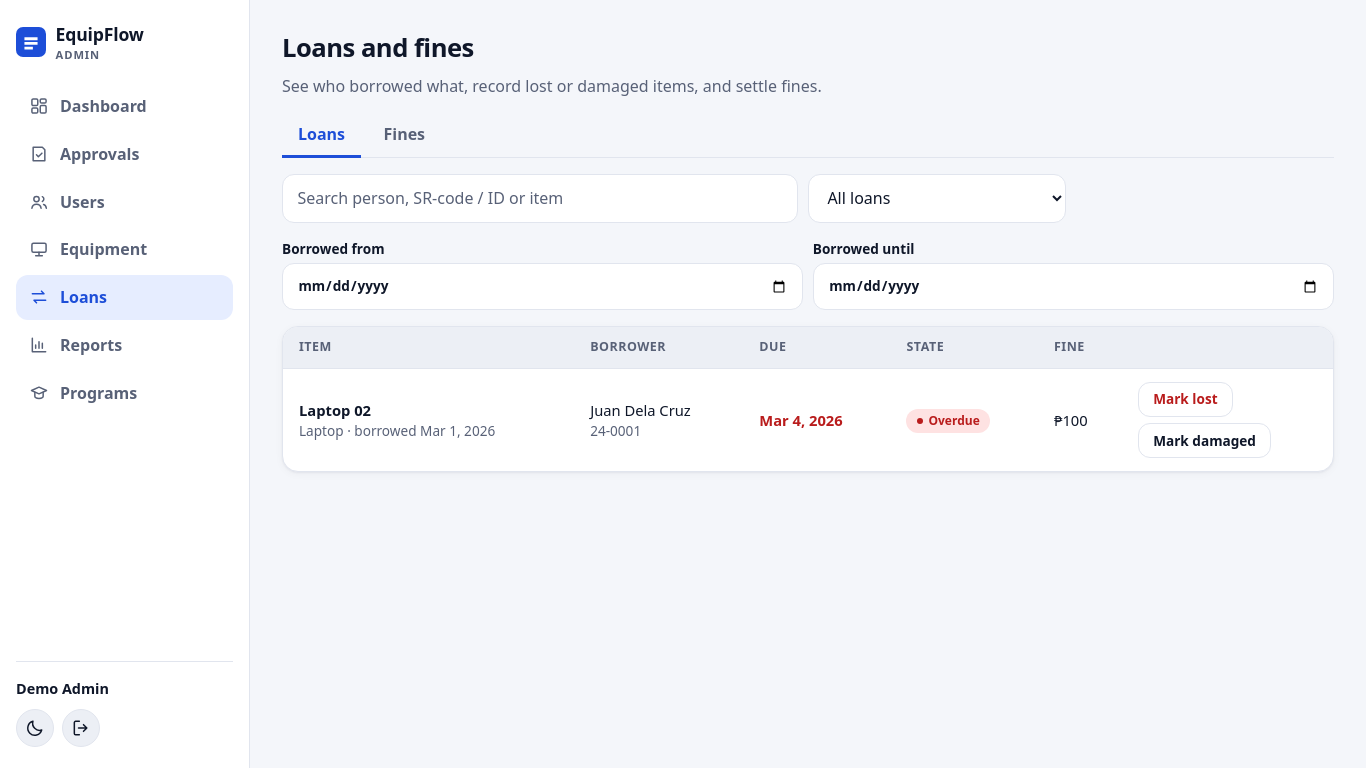
Test case: Loans › shows the server's reason when marking lost fails
The width and height of the screenshot is (1366, 768).
Click the button "Mark lost": (1185, 399) [1138,382,1233,417]
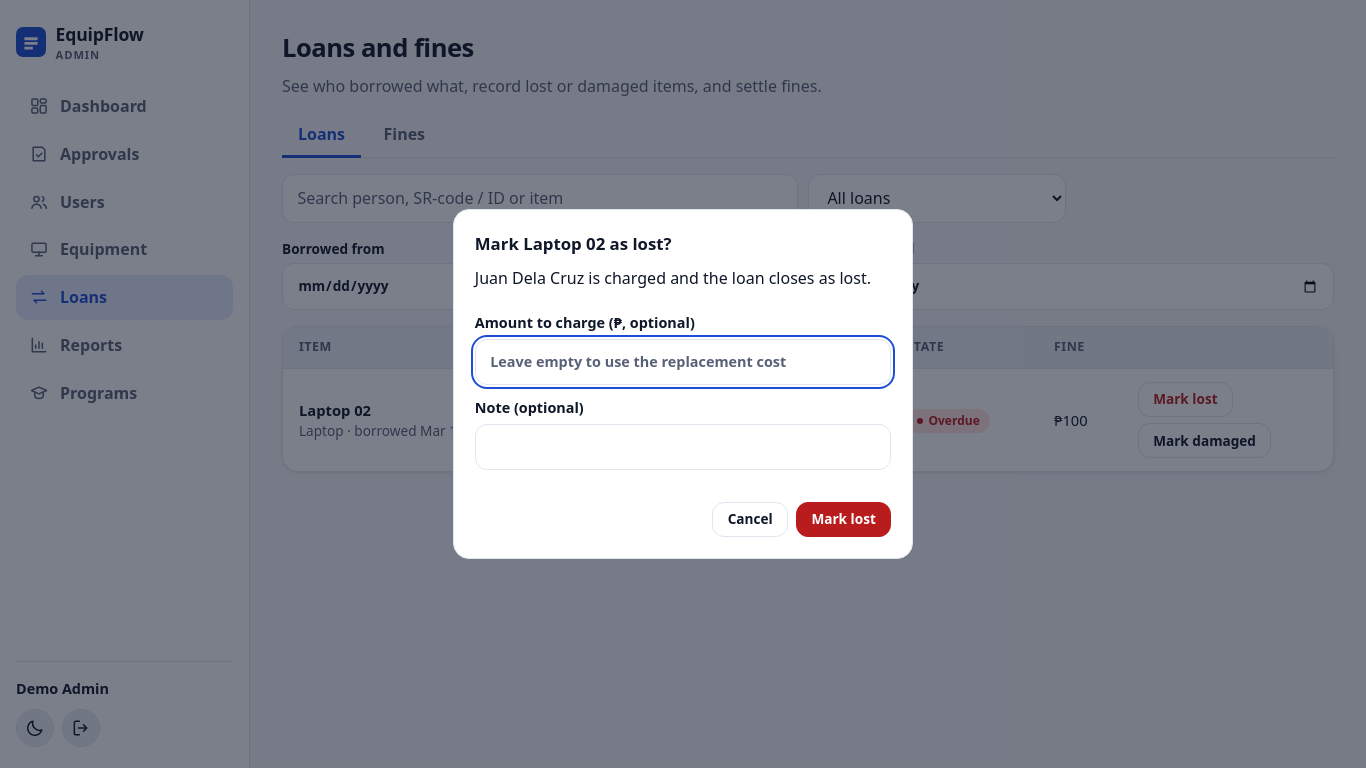
Click the button "Mark lost": (844, 519) [796,502,891,537]
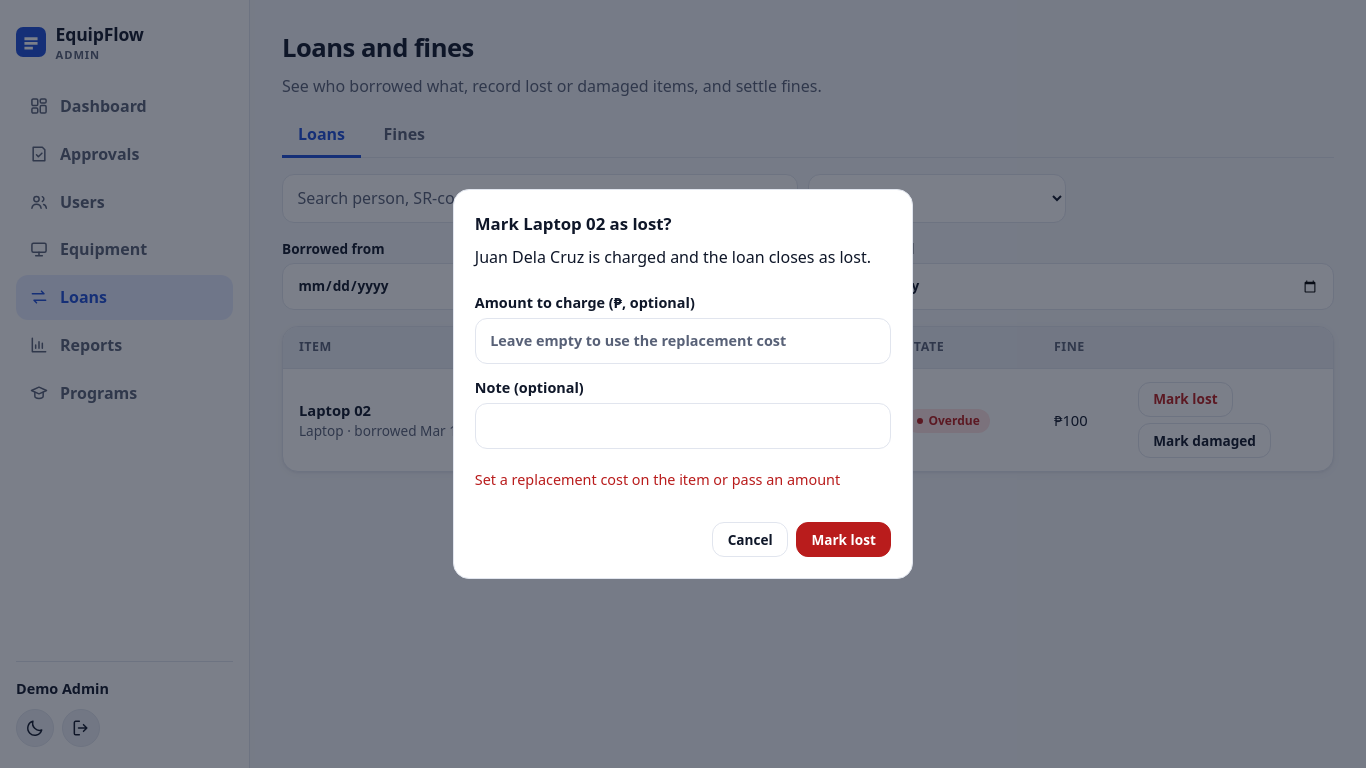
Result: the message shows "Set a replacement cost" at [475,470,840,488]
